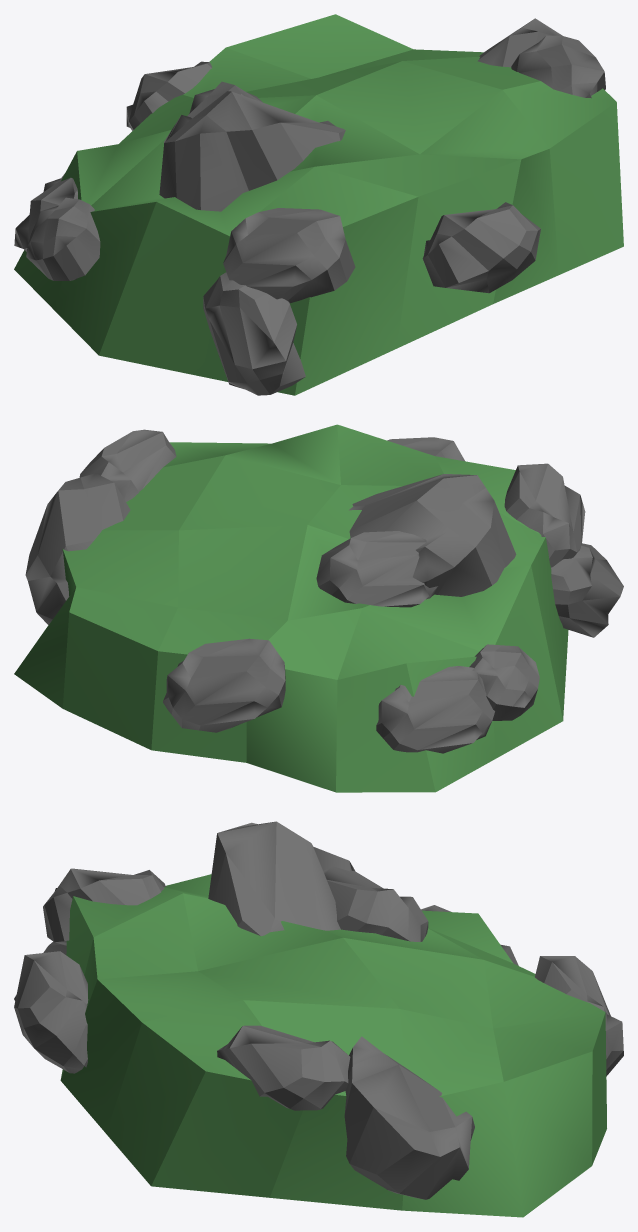
Rendered from island2.obj.obj.
3 views of the same model, one above another, from view 1: azimuth 30°, elevation 25°; view 2: azimuth 150°, elevation 25°; view 3: azimuth 270°, elevation 25° (orthographic). The views are drawn at different scales.
Parts seen in each view (by area): view 1: s.0019, s.0024, s.0028, s.0029, s.0031, s.0025, s.0032, s.0030, s.0026, s.0027, s.0033; view 2: s.0019, s.0024, s.0030, s.0027, s.0026, s.0033, s.0028, s.0029, s.0025, s.0032, s.0031; view 3: s.0019, s.0026, s.0024, s.0032, s.0031, s.0033, s.0028, s.0030.
Part boxes in pixels (left/top/right/bottom): s.0019: left=14, top=14, right=623, bottom=395; s.0024: left=159, top=91, right=345, bottom=211; s.0028: left=223, top=208, right=355, bottom=303; s.0029: left=203, top=272, right=305, bottom=395; s.0031: left=422, top=202, right=540, bottom=293; s.0025: left=26, top=197, right=100, bottom=280; s.0032: left=511, top=35, right=605, bottom=98; s.0030: left=126, top=61, right=211, bottom=130; s.0026: left=477, top=18, right=562, bottom=67; s.0027: left=14, top=173, right=77, bottom=251; s.0033: left=162, top=81, right=262, bottom=159; s.0019: left=14, top=424, right=568, bottom=792; s.0024: left=349, top=474, right=516, bottom=596; s.0030: left=163, top=638, right=285, bottom=732; s.0027: left=376, top=666, right=494, bottom=753; s.0026: left=25, top=473, right=130, bottom=624; s.0033: left=316, top=531, right=438, bottom=607; s.0028: left=504, top=463, right=585, bottom=567; s.0029: left=551, top=543, right=623, bottom=637; s.0025: left=469, top=644, right=539, bottom=720; s.0032: left=79, top=429, right=176, bottom=501; s.0031: left=387, top=437, right=464, bottom=461; s.0019: left=60, top=874, right=606, bottom=1217; s.0026: left=344, top=1036, right=474, bottom=1199; s.0024: left=208, top=821, right=355, bottom=935; s.0032: left=217, top=1025, right=350, bottom=1110; s.0031: left=14, top=951, right=88, bottom=1073; s.0033: left=323, top=866, right=428, bottom=941; s.0028: left=43, top=868, right=165, bottom=945; s.0030: left=535, top=956, right=623, bottom=1076.
Size of the model in its own units: 0.5936 by 0.2499 by 0.5686.
